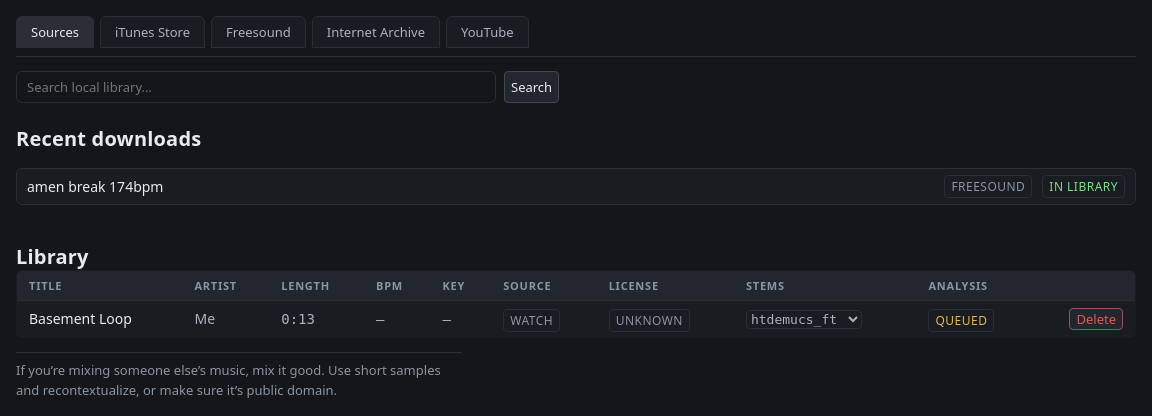
Test: LibraryView › renames a track from its row, title and artist alike
Expected: the number of rows with test id "library-track" is 1, [16,300,1136,338]
Click the button with test id "track-title". click: (80, 319)
box: [29,309,132,329]
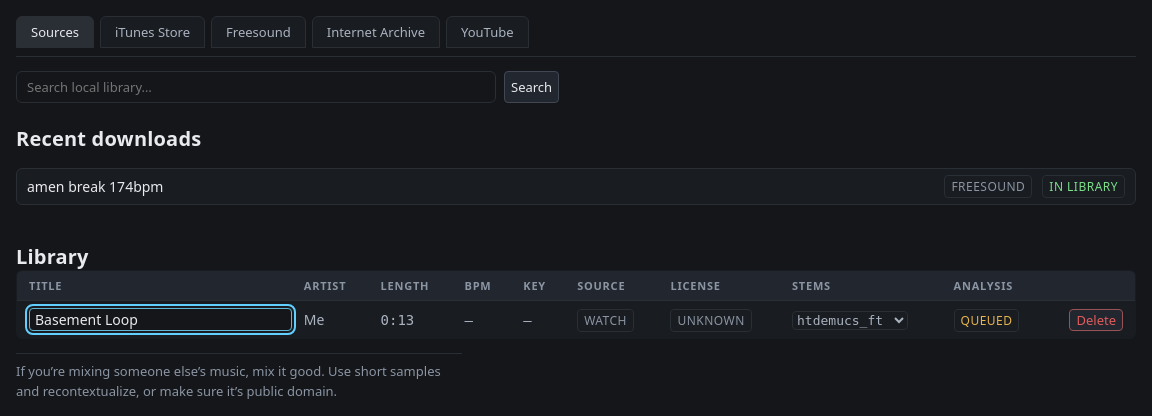
Replace the text in the field with test id "track-title-input" with "Boys". click: (160, 320)
box: [29,308,292,331]
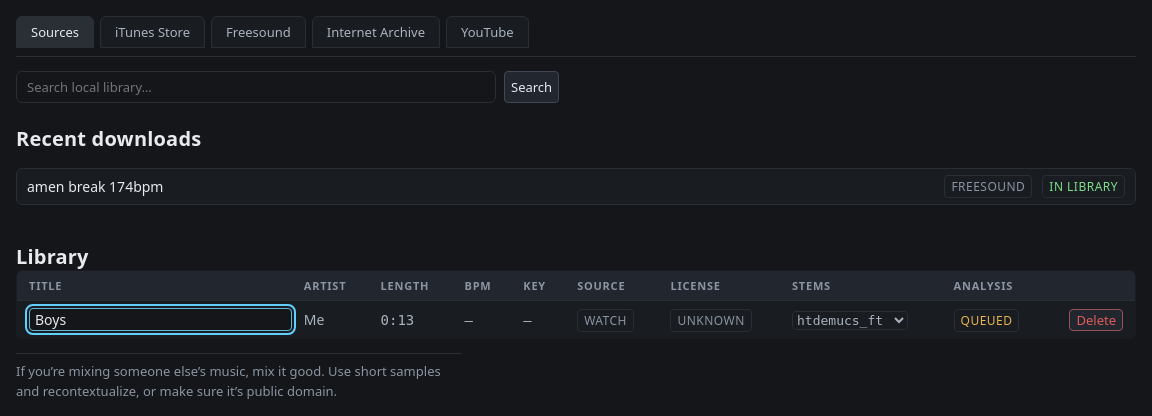
Press Enter in the field with test id "track-title-input", box [29,308,292,331]
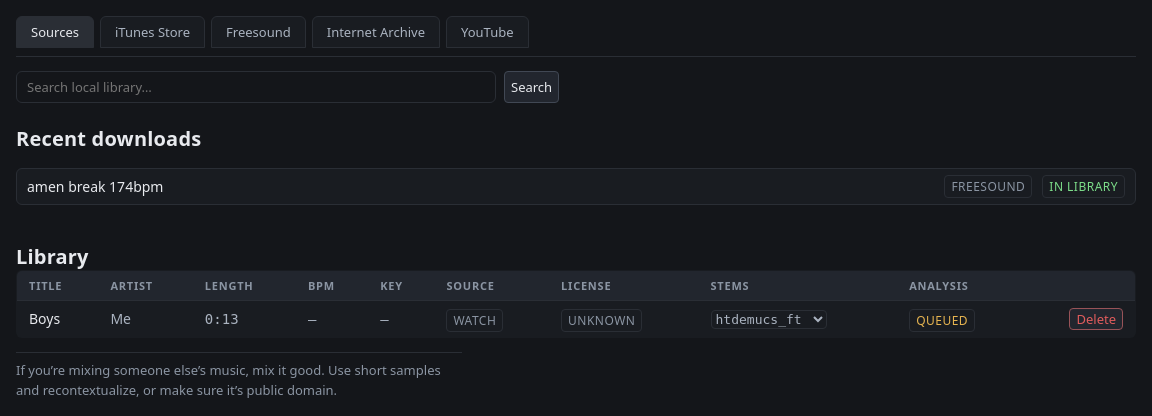
Expected: the button with test id "track-title" reads "Boys", [29,309,60,329]
# The artist is the same field twice over, and leaving it commits too.
Click the button with test id "track-artist". click: (121, 319)
box: [110,309,131,329]
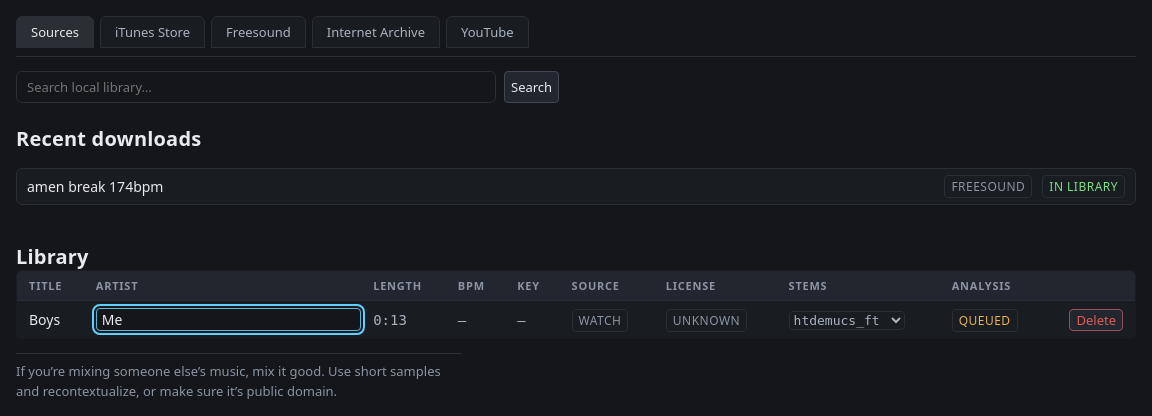
Replace the text in the field with test id "track-artist-input" with "Lizzo". click: (228, 320)
box: [96,308,361,331]
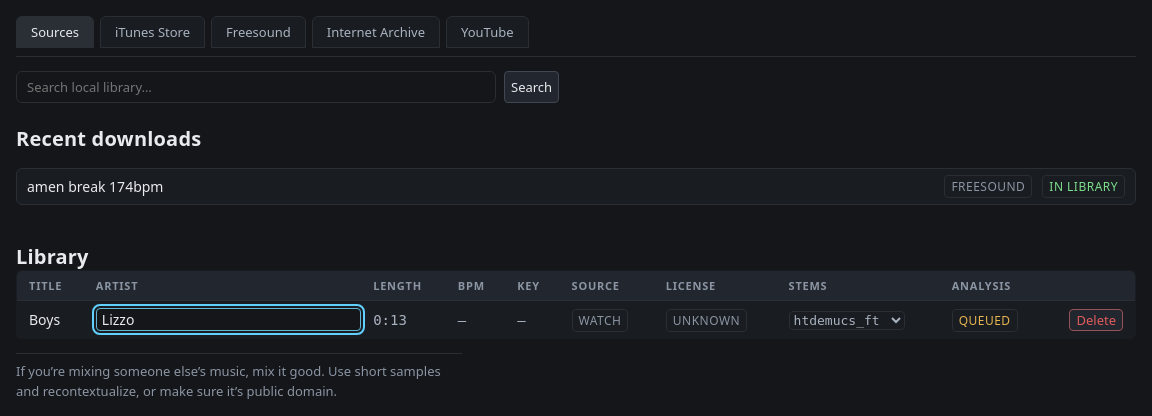
Leave the field with test id "track-artist-input", box [96,308,361,331]
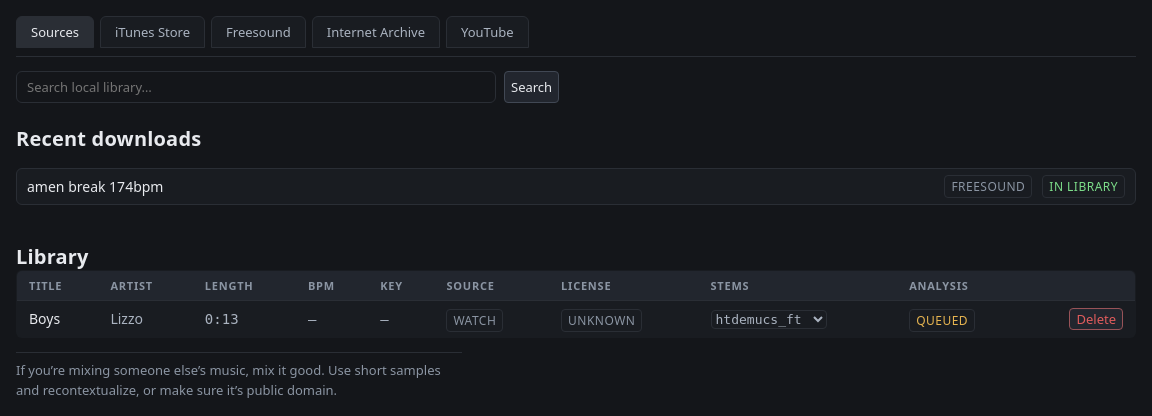
Expected: the button with test id "track-artist" reads "Lizzo", [110,309,143,329]
